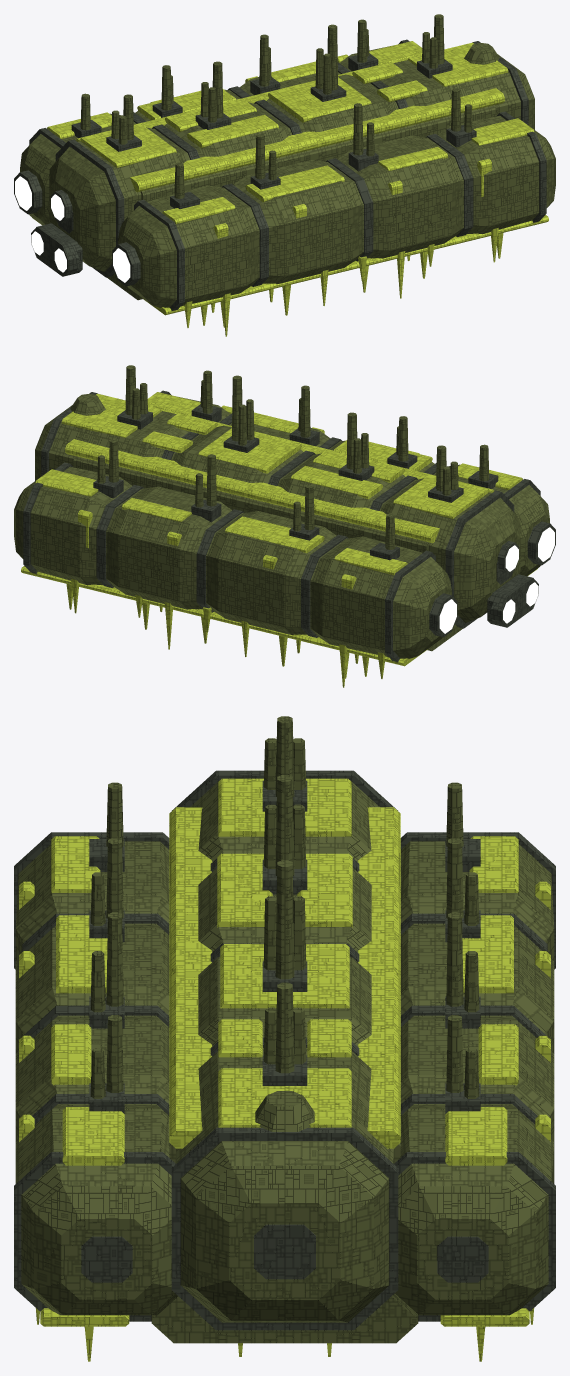
The model's file is green_lod1.glb.
3 views of the same model, one above another, from view 1: azimuth 30°, elevation 25°; view 2: azimuth 150°, elevation 25°; view 3: azimuth 270°, elevation 25° (orthographic). The views are drawn at different scales.
Parts seen in each view (by area): view 1: green_lod1_body, green_lod1_glow; view 2: green_lod1_body, green_lod1_glow; view 3: green_lod1_body.
Part boxes in pixels (<box>): green_lod1_body: <box>14,14,555,336</box>; green_lod1_glow: <box>15,176,130,282</box>; green_lod1_body: <box>14,365,555,687</box>; green_lod1_glow: <box>439,527,554,633</box>; green_lod1_body: <box>14,716,555,1361</box>.
Bounding box in the file's own units: 22.17 × 11.22 × 12.18.
Materials: 2 (1 with a texture image).
